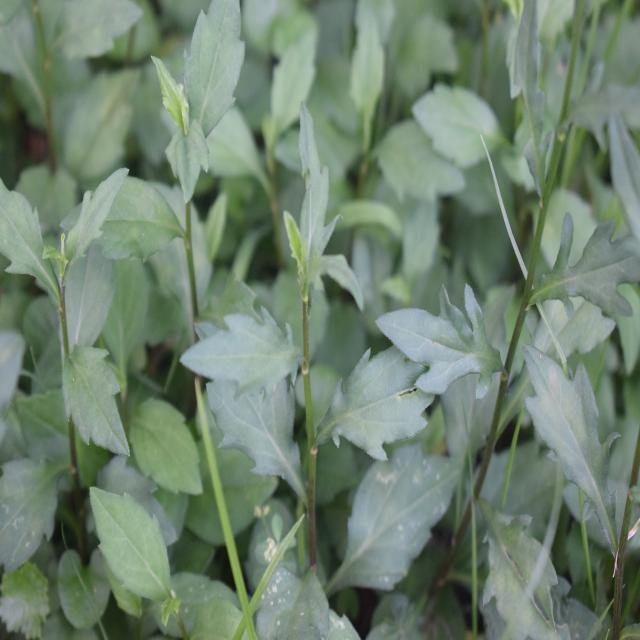Indian aster: (200, 145, 450, 512), (91, 0, 251, 393), (0, 148, 148, 506)
